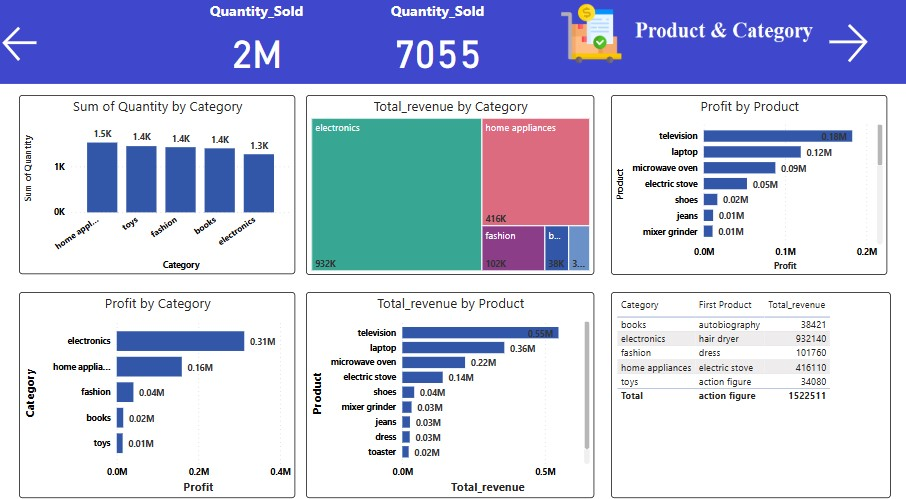

What the dashboard file says about the page in this screenshot:
{"tool":"powerbi","page":{"name":"Product&Category","canvas":[1280,720],"ordinal":2},"visuals":[{"type":"barChart","fields":{"Category":["Customer_Insights.Category"],"Y":["New_MEASURE.Profit"]},"box":[28.2,419.3,389.6,290.8],"z":0},{"type":"barChart","fields":{"Category":["Customer_Insights.Product"],"Y":["New_MEASURE.Total_revenue"]},"box":[433.4,419.3,406.6,290.8],"z":1000},{"type":"tableEx","fields":{"Values":["Customer_Insights.Category","Min(Customer_insight.Product)","New_MEASURE.Total_revenue"]},"box":[864,419.3,395.3,290.8],"z":2000},{"type":"clusteredColumnChart","fields":{"Y":["Sum(Customer_Insights.Quantity)"],"Category":["Customer_Insights.Category"]},"box":[28.2,141.2,389.6,252.7],"z":3000},{"type":"barChart","fields":{"Category":["Customer_insight.Product"],"Y":["New_MEASURE.Profit"]},"box":[864,141.2,389.6,254.1],"z":4000},{"type":"treemap","fields":{"Values":["New_MEASURE.Total_revenue"],"Details":["Customer_insight.Category"]},"box":[433.4,141.2,406.6,254.1],"z":5000},{"type":"actionButton","box":[0,33.9,158.1,64.9],"z":6000},{"type":"actionButton","box":[1164.7,29.6,94.6,72],"z":7000},{"type":"card","title":"Quantity_Sold","fields":{"Values":["New_MEASURE.Quantity_Sold"]},"box":[501.2,7.1,235.8,112.9],"z":8000},{"type":"card","title":"Quantity_Sold","fields":{"Values":["New_MEASURE.Total_revenue"]},"box":[245.6,7.1,235.8,112.9],"z":9000},{"type":"image","box":[756.7,7.1,158.1,94.6],"z":10000}]}

Visuals, with their boxes in screenshot pixels (x1, y1, x2, y2), scaled from the page's 1280x720 canvas onto the 906x499 screenshot:
barChart - Customer_Insights.Category x New_MEASURE.Profit: Rect(20, 291, 296, 492)
barChart - Customer_Insights.Product x New_MEASURE.Total_revenue: Rect(307, 291, 595, 492)
tableEx - Customer_Insights.Category x Min(Customer_insight.Product): Rect(612, 291, 891, 492)
clusteredColumnChart - Sum(Customer_Insights.Quantity) x Customer_Insights.Category: Rect(20, 98, 296, 273)
barChart - Customer_insight.Product x New_MEASURE.Profit: Rect(612, 98, 887, 274)
treemap - New_MEASURE.Total_revenue x Customer_insight.Category: Rect(307, 98, 595, 274)
actionButton: Rect(0, 23, 112, 68)
actionButton: Rect(824, 21, 891, 70)
"Quantity_Sold" card: Rect(355, 5, 522, 83)
"Quantity_Sold" card: Rect(174, 5, 341, 83)
image: Rect(536, 5, 648, 70)
